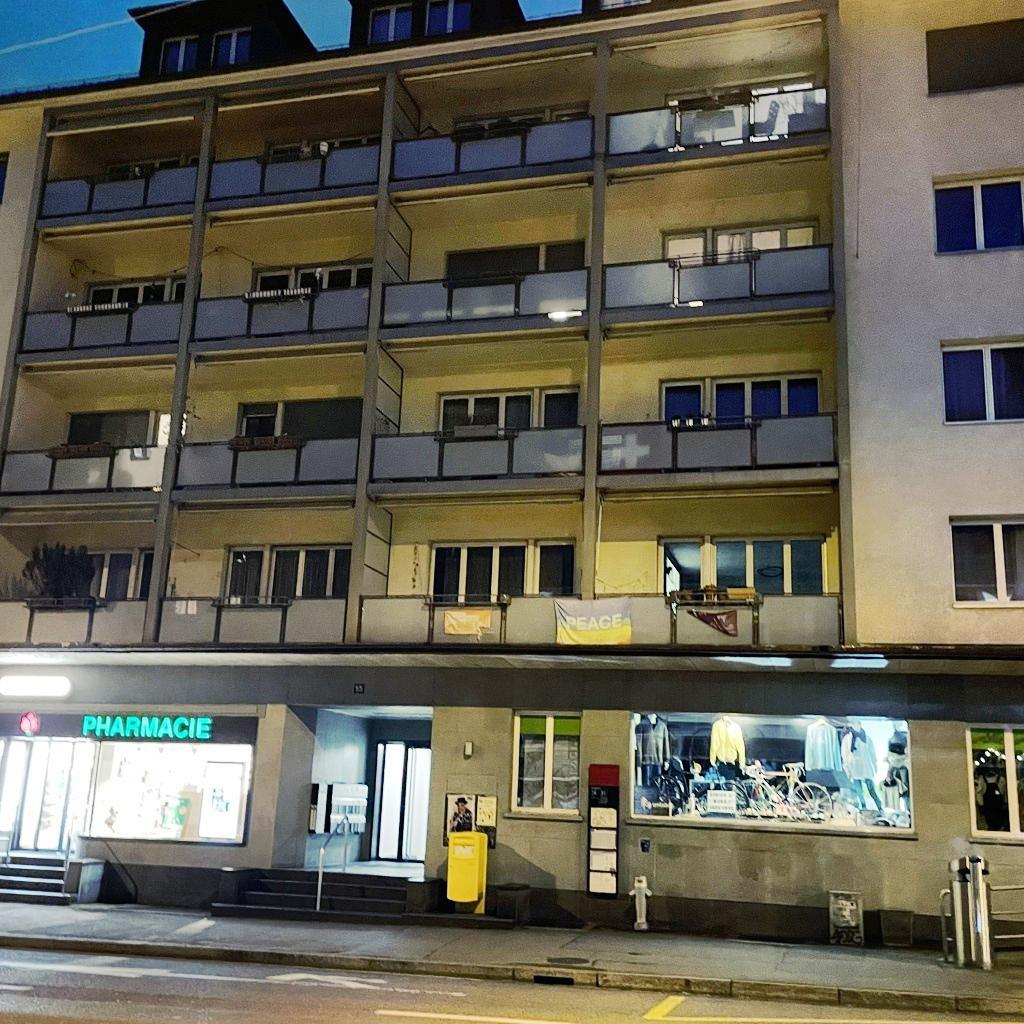balcony-fence: (601, 242, 832, 312), (605, 87, 830, 155), (597, 412, 837, 475), (595, 592, 843, 649), (390, 118, 594, 182), (382, 267, 591, 328), (370, 426, 587, 483), (357, 593, 583, 644), (207, 143, 381, 202), (191, 287, 371, 343), (175, 437, 360, 489), (41, 162, 199, 217), (159, 597, 346, 643), (21, 301, 183, 353), (0, 600, 147, 647)
facade: (0, 0, 1024, 948)
shop: (0, 699, 267, 915)
street: (0, 902, 1024, 1024)
vegetation: (21, 539, 95, 598)
window: (665, 220, 821, 307), (665, 79, 816, 153), (657, 535, 826, 596), (428, 539, 576, 607), (661, 371, 822, 427), (925, 16, 1024, 96), (222, 544, 352, 604), (510, 709, 582, 815), (933, 173, 1024, 256), (439, 385, 580, 438), (941, 338, 1024, 424), (965, 723, 1024, 842), (447, 241, 584, 287), (949, 518, 1024, 602), (240, 398, 363, 445), (66, 410, 172, 455), (456, 106, 587, 141), (255, 262, 373, 299), (74, 550, 153, 597), (87, 277, 187, 311), (268, 133, 381, 162), (104, 153, 199, 181), (369, 1, 412, 43), (210, 26, 250, 68), (425, 0, 472, 35), (158, 35, 199, 73), (599, 0, 651, 11)
